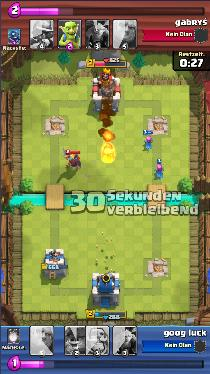ally_archer: (154, 161, 165, 178), (142, 133, 153, 149)
enemy_fireball: (101, 140, 115, 163)
enemy_knight: (61, 147, 82, 170)
